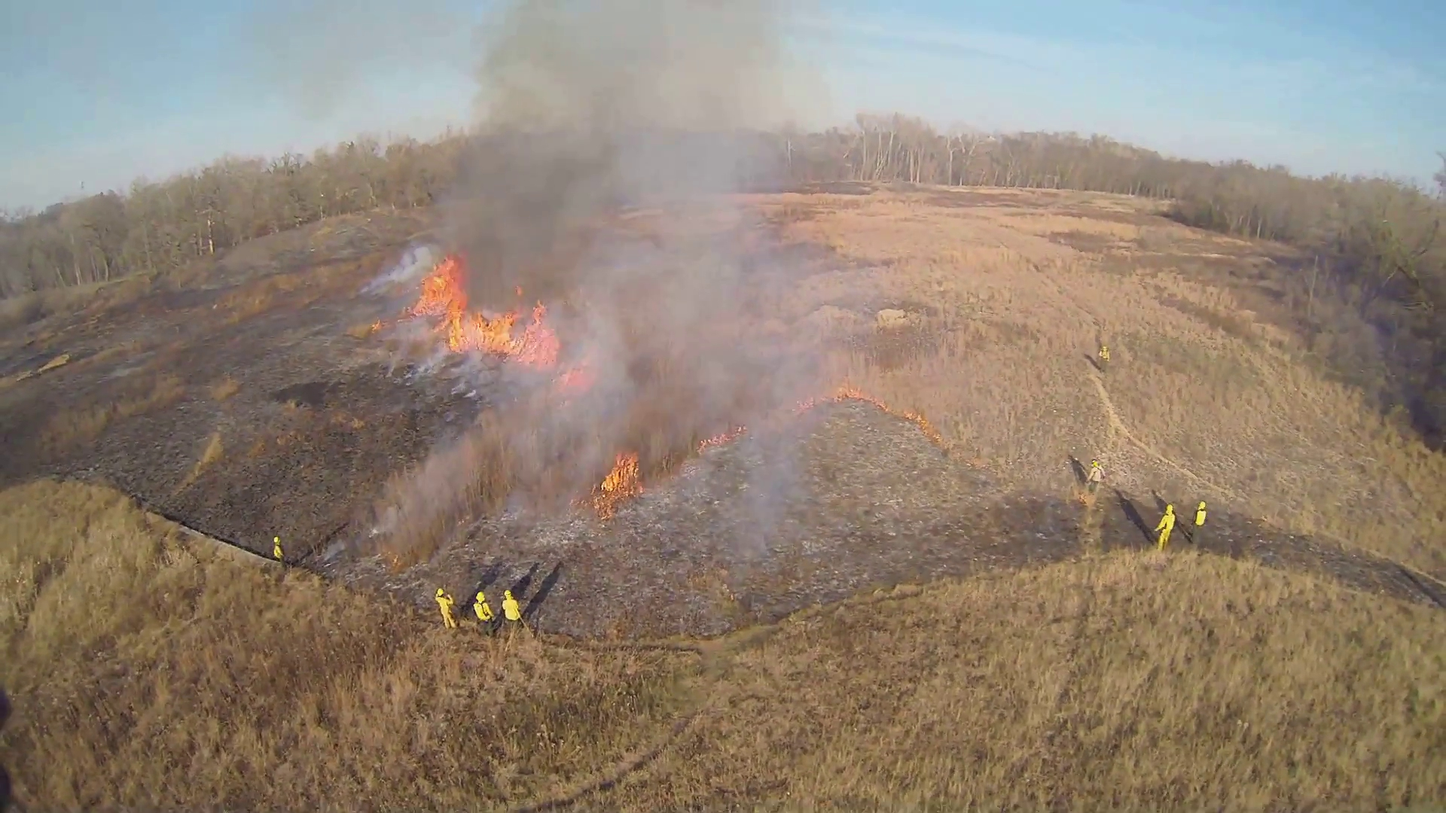forest_fire: (408, 254, 593, 394), (795, 386, 941, 442), (589, 452, 642, 517), (697, 426, 745, 452)
